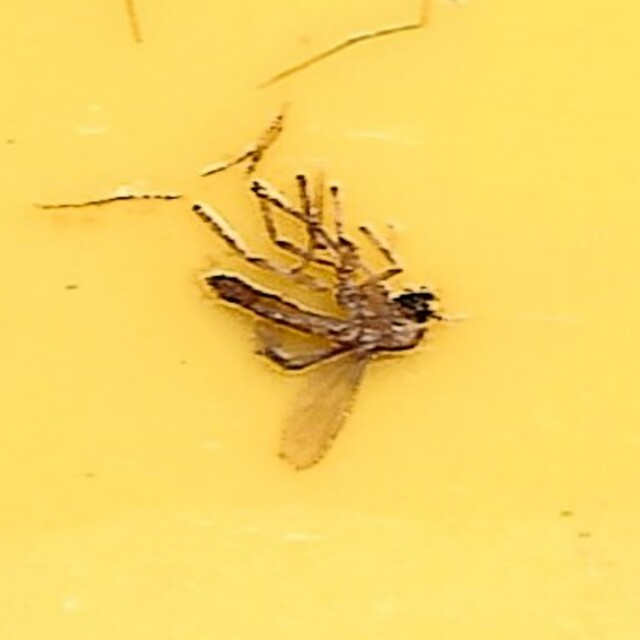Nematocera: (187, 158, 453, 482)
